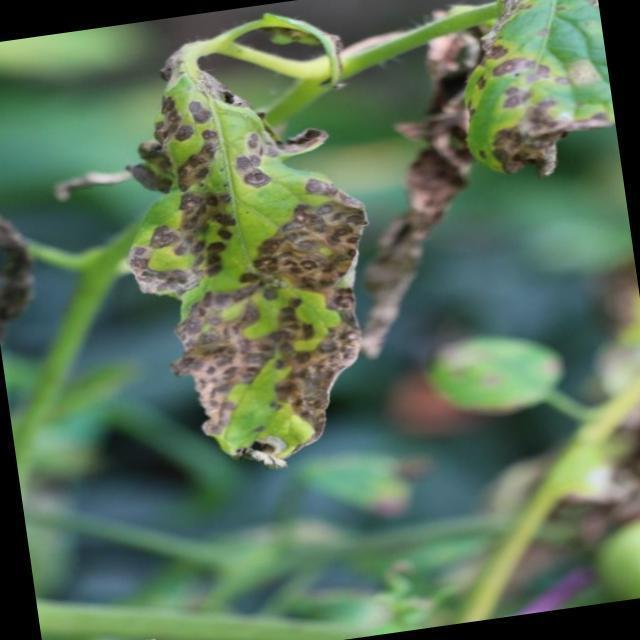Septoria: (122, 66, 355, 298), (484, 26, 574, 117)
